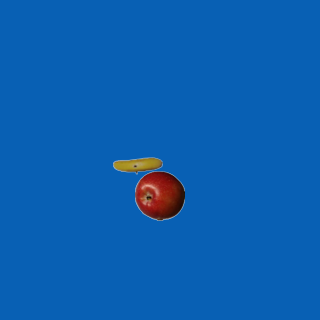Apple Braeburn: (134, 170, 184, 220)
Banana: (112, 140, 162, 190)
